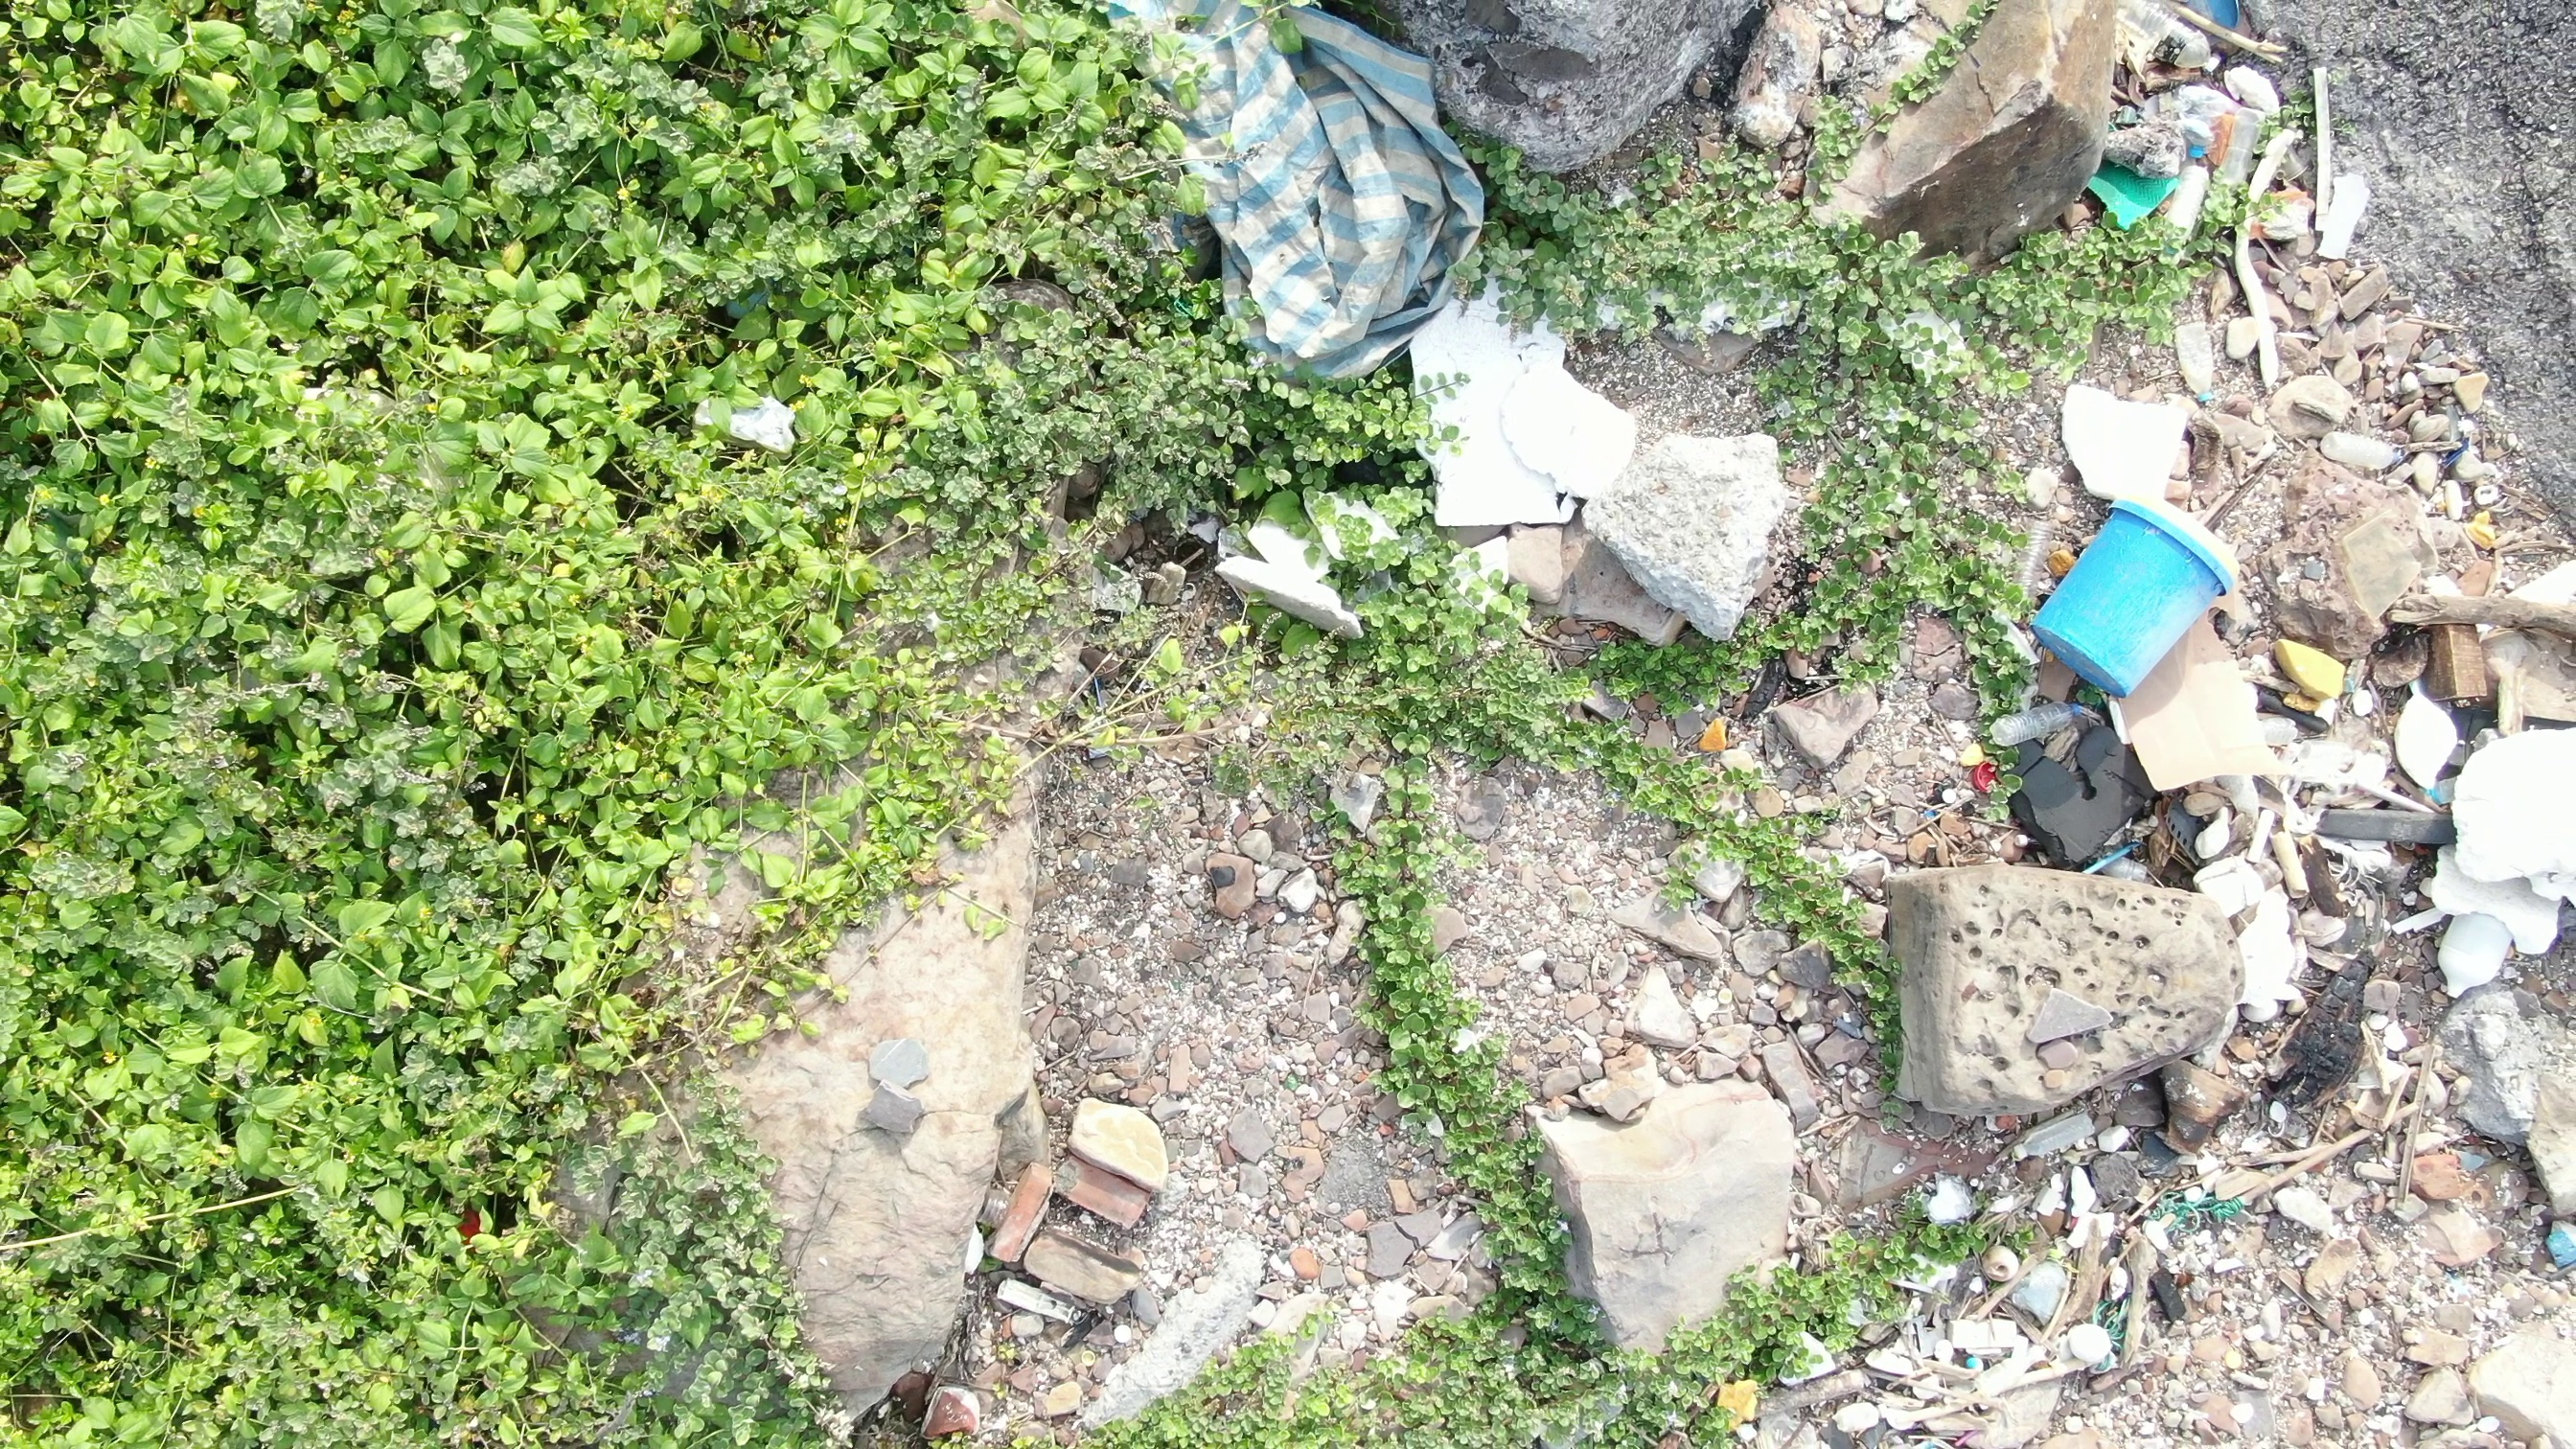bottle: (1999, 1108, 2109, 1168), (1982, 697, 2088, 754)
garbage: (2022, 2, 2576, 1065), (1083, 2, 1488, 418), (1419, 237, 1660, 536), (1992, 1182, 2265, 1376), (1212, 476, 1431, 649), (2532, 1210, 2574, 1299)
